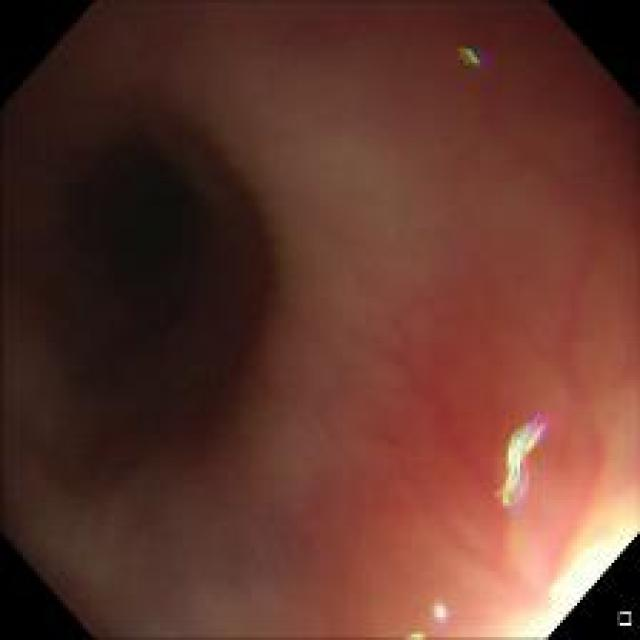blur: (192, 6, 631, 632)
color misalignment: (490, 400, 558, 524), (422, 594, 459, 630), (451, 39, 482, 71)
contrast: (6, 104, 282, 494)
saturation: (505, 515, 635, 636)
